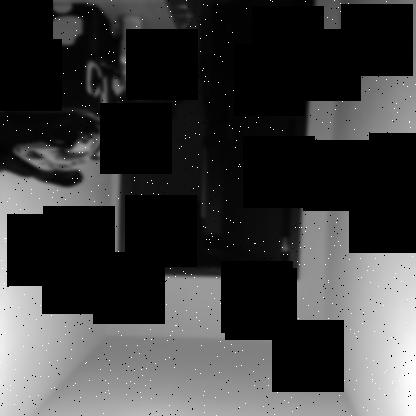Porte: (115, 1, 319, 282)
